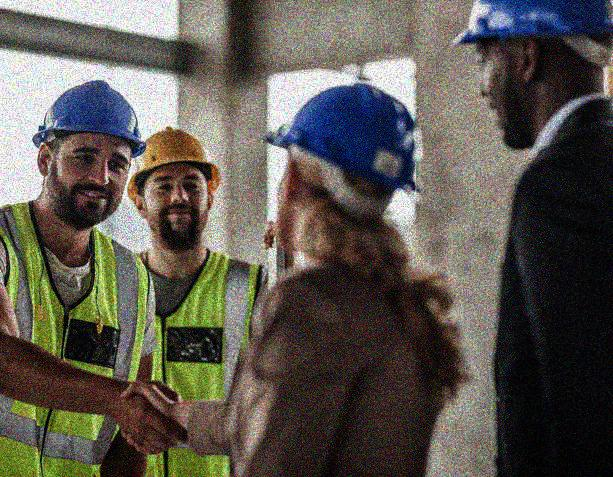helmet: (260, 82, 426, 241), (450, 2, 613, 149), (32, 80, 146, 228), (126, 128, 223, 244)
